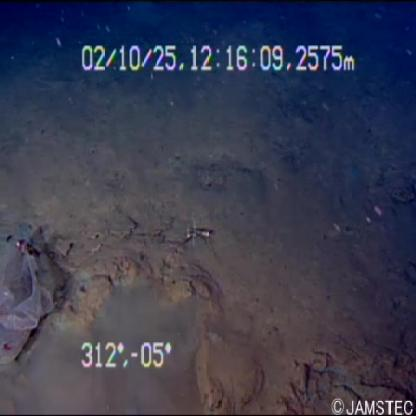Rác: (1, 212, 71, 374)
